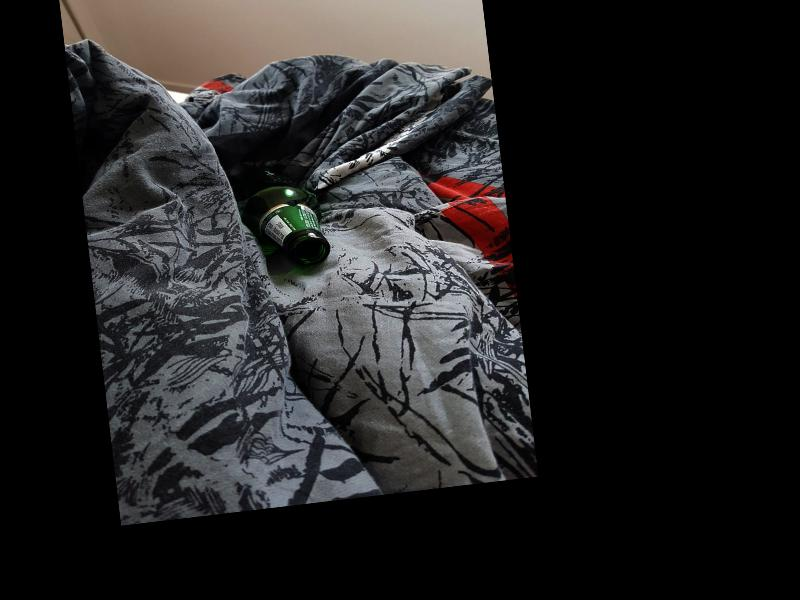Beer: (236, 162, 328, 273)
